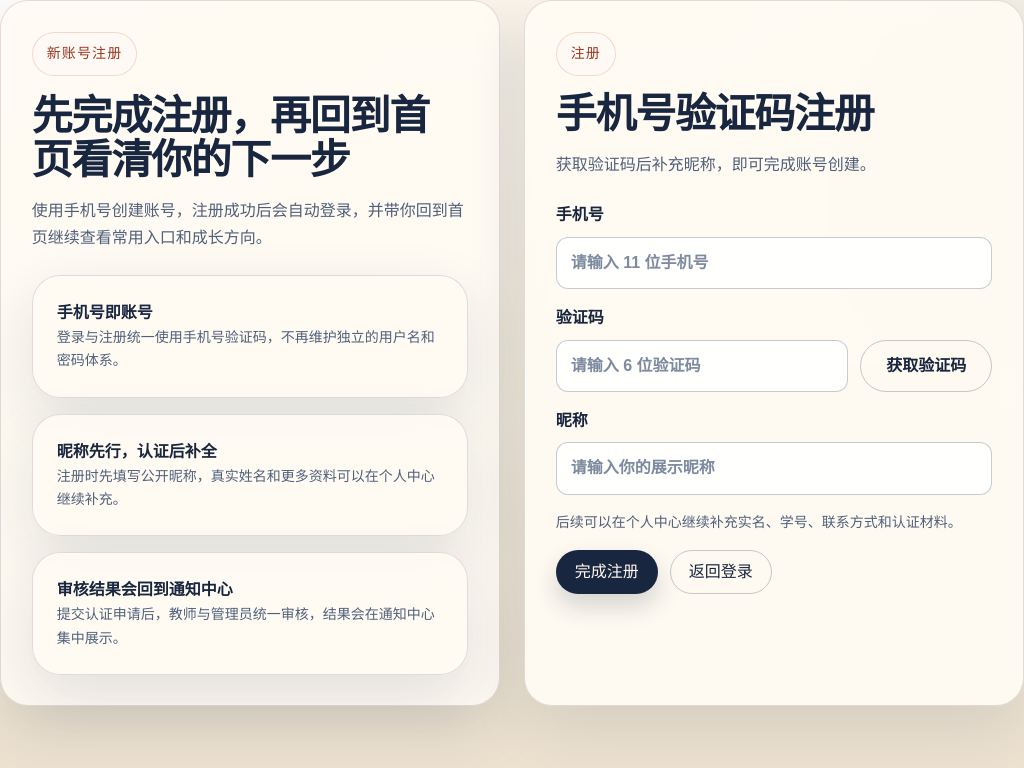
Scenario: shows nickname validation before submit
The image size is (1024, 768).
Step 1. Type "13800000009" into the field named "phone" → {"x": 774, "y": 263}, box [556, 237, 992, 289]
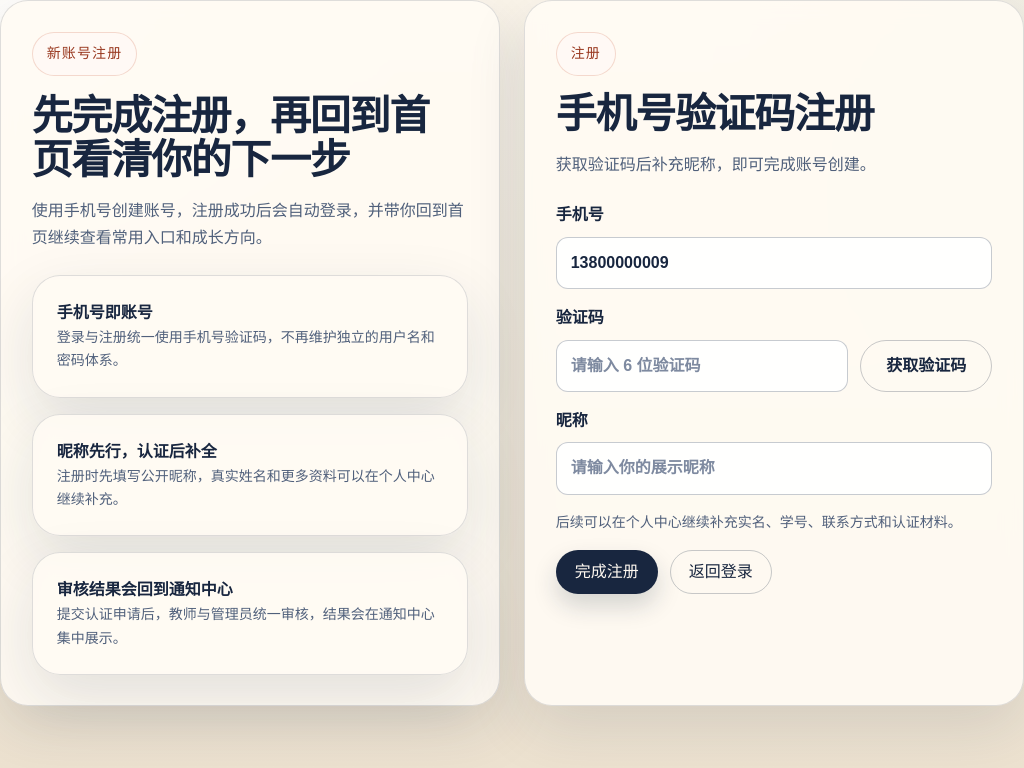
Step 2. Type "123456" into the field named "verificationCode" → {"x": 702, "y": 366}, box [556, 340, 848, 392]
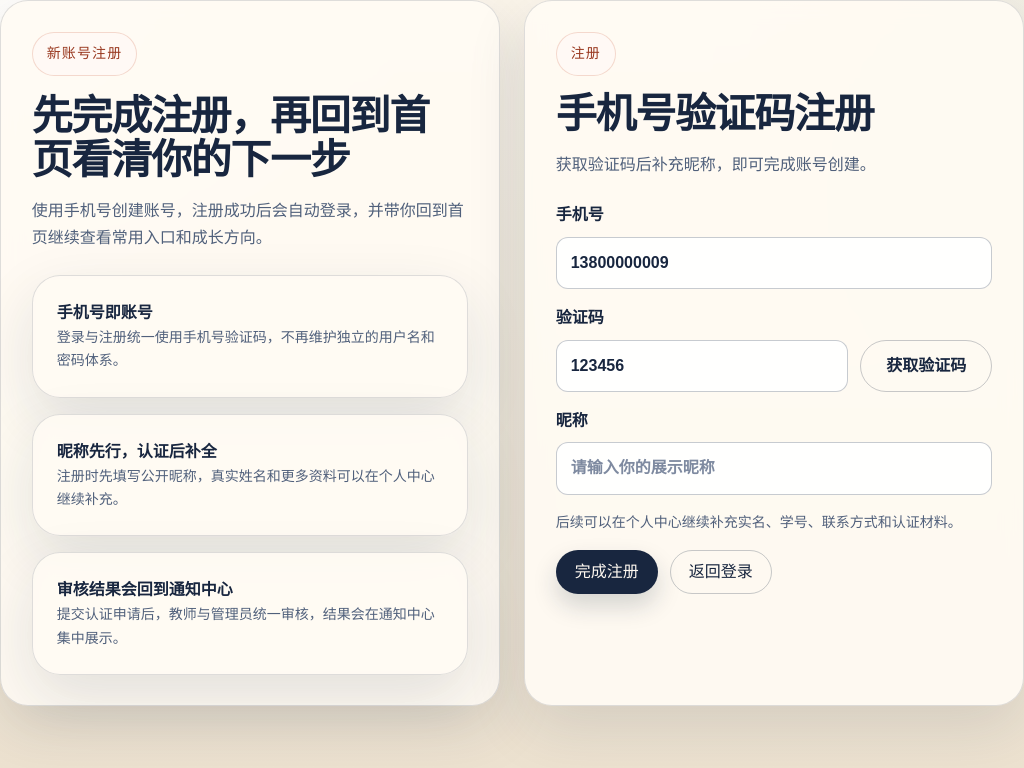
Step 3. Submit the form, box [556, 202, 992, 594]
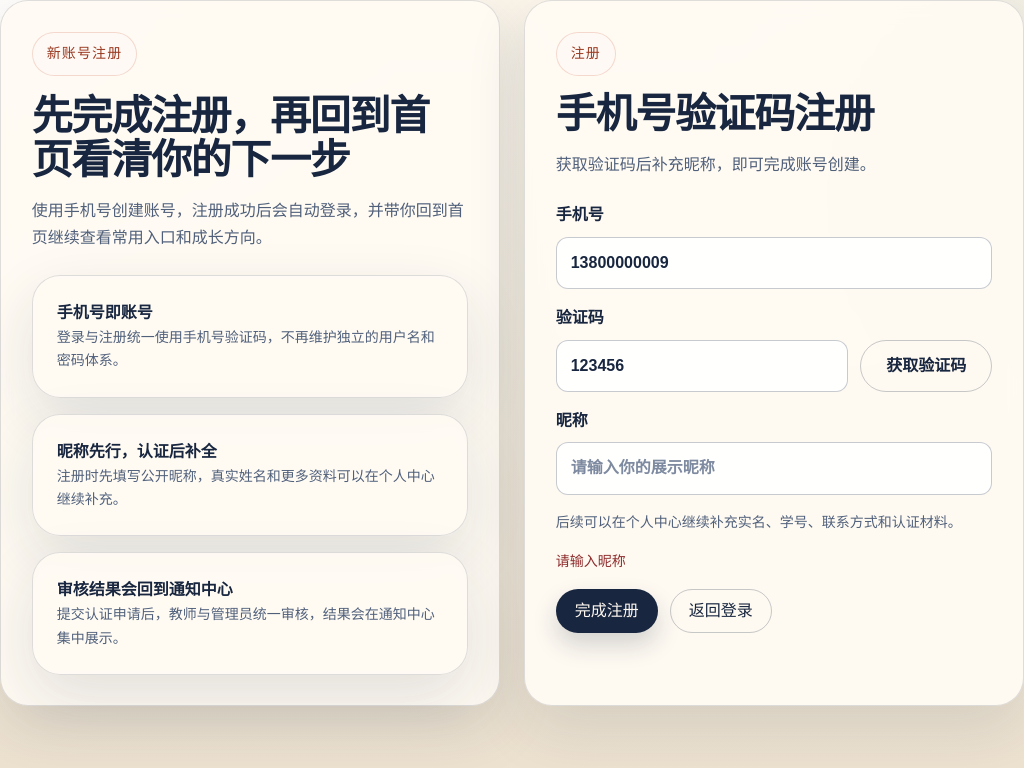
Expected: the text "请输入昵称" is shown, [556, 553, 626, 569]
